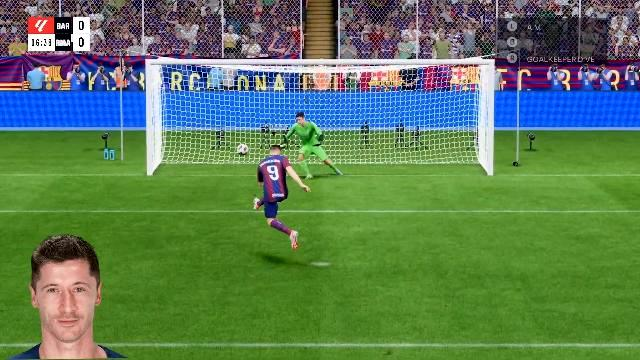bottom-left: (156, 138, 272, 176)
bottom-right: (376, 144, 486, 172)
center-down: (266, 140, 378, 174)
goalkeeper: (282, 114, 346, 176)
player: (244, 144, 316, 262)
top-left: (153, 67, 289, 121)
top-right: (361, 68, 491, 122)
